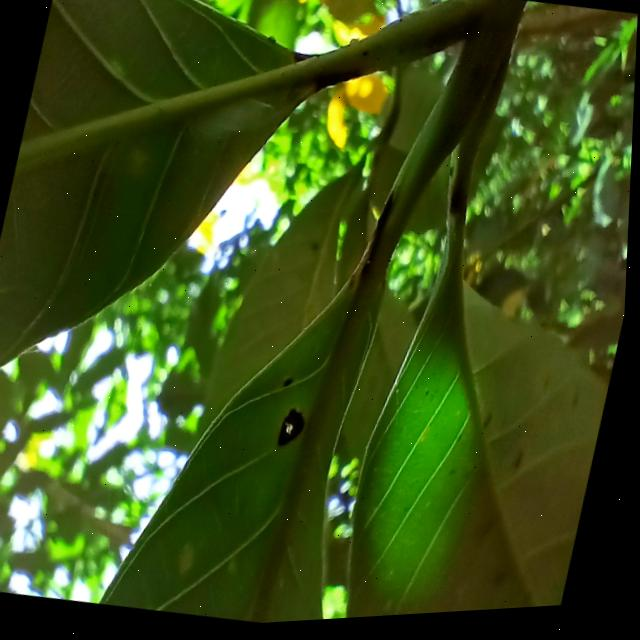Colletotrichum: (279, 409, 310, 453)
